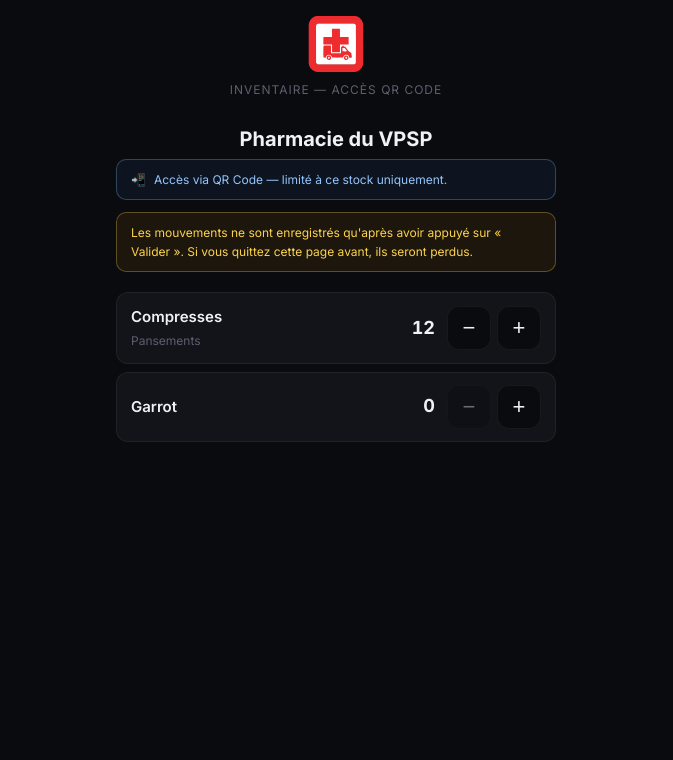
QRStockPage › ajoute un retrait au panier sans aucun appel réseau (AC-I3)
Expected: the heading "Pharmacie du VPSP" is shown, [240, 127, 432, 151]
Click the button named "Retirer une unité de Compresses".
click(469, 328)  # box [447, 306, 491, 350]
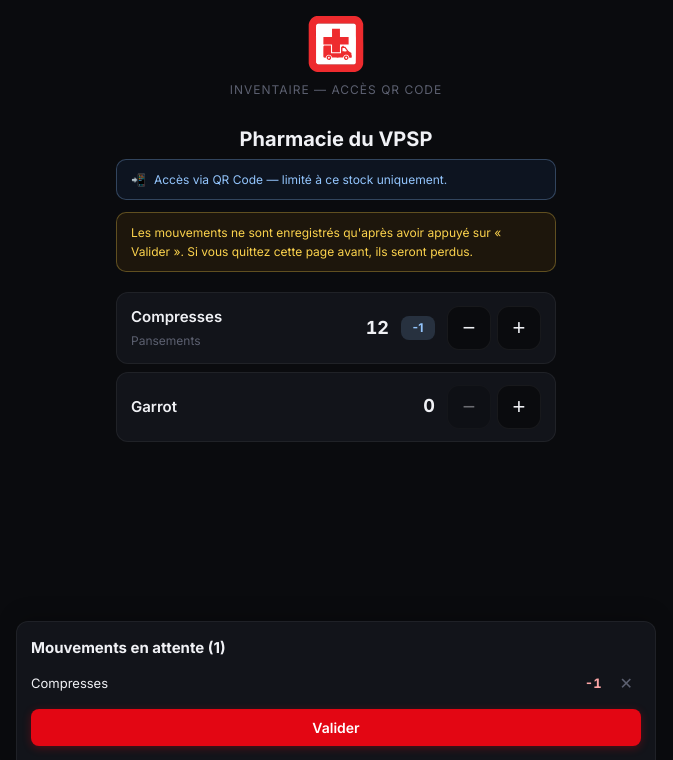
Expected: the heading "Mouvements en attente (1)" is shown, [31, 638, 226, 657]
